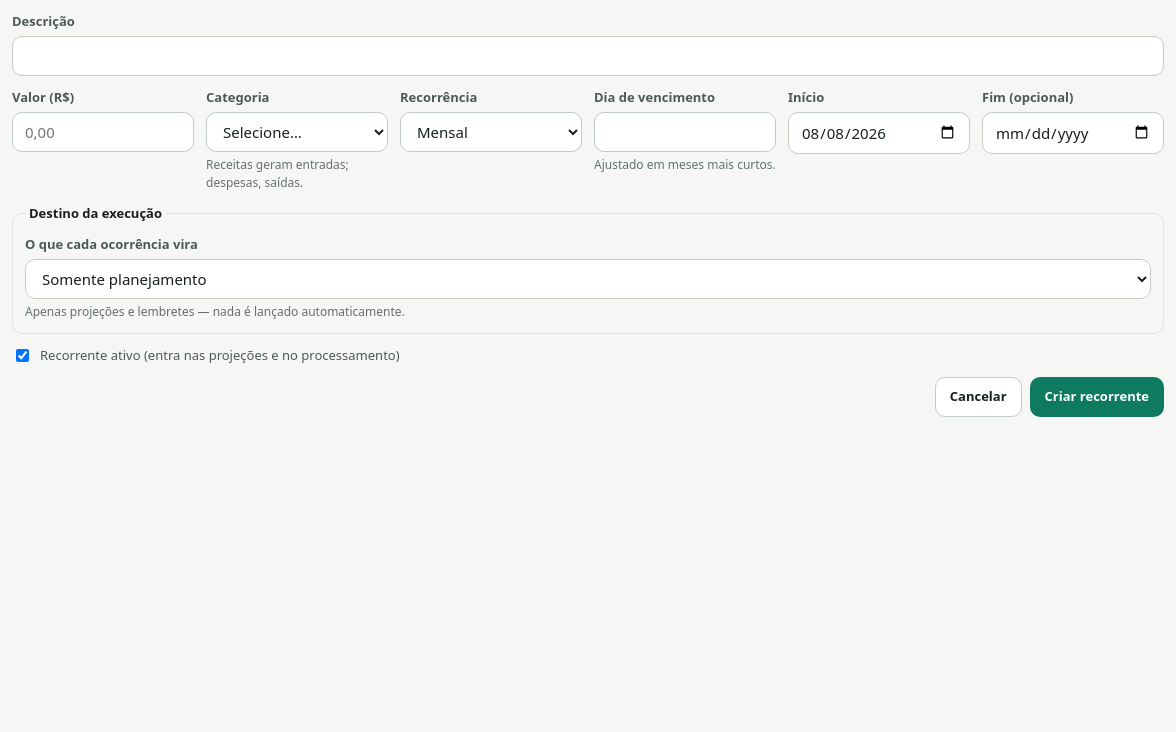
Test case: CommitmentForm › blocks submitting an account target without an account
Check: the dropdown labelled "O que cada ocorrência vira" is shown, box [25,258,1151,298]
Step 1. Type "Internet" into the field labelled "Descrição" → coordinates (588, 56), box [12,36,1164,76]
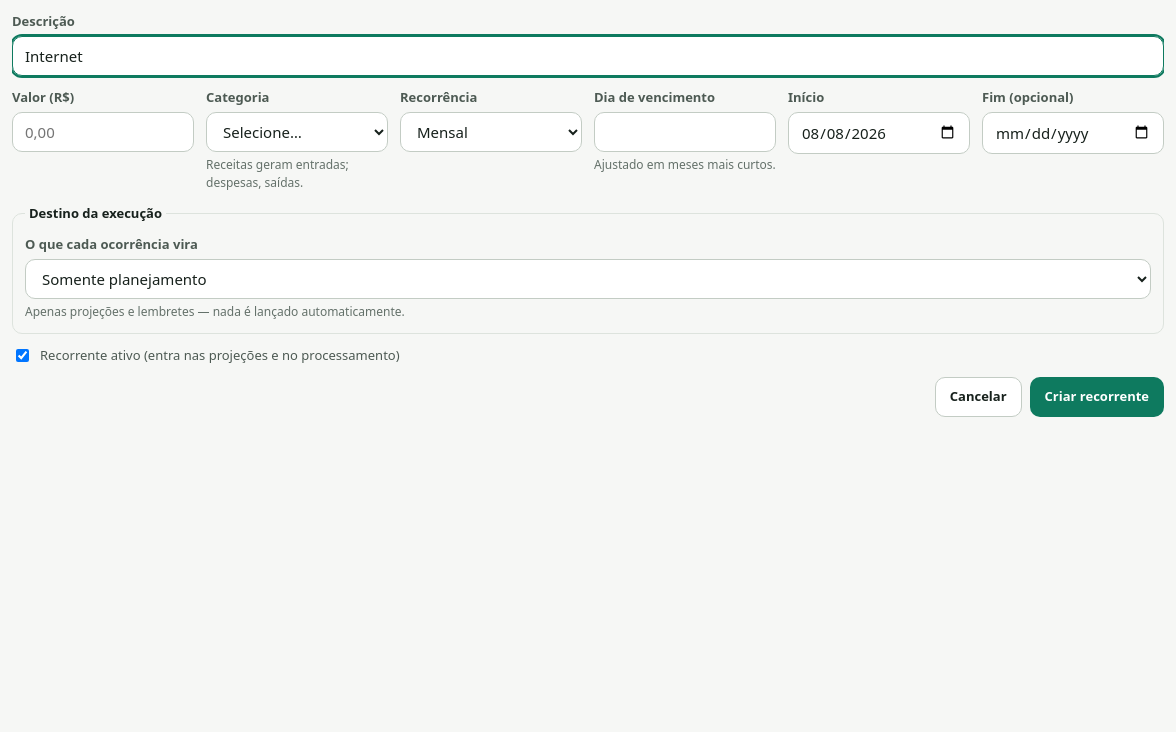
Step 2. Type "99,90" into the field labelled "Valor (R$)" → coordinates (103, 132), box [12,112,194,152]
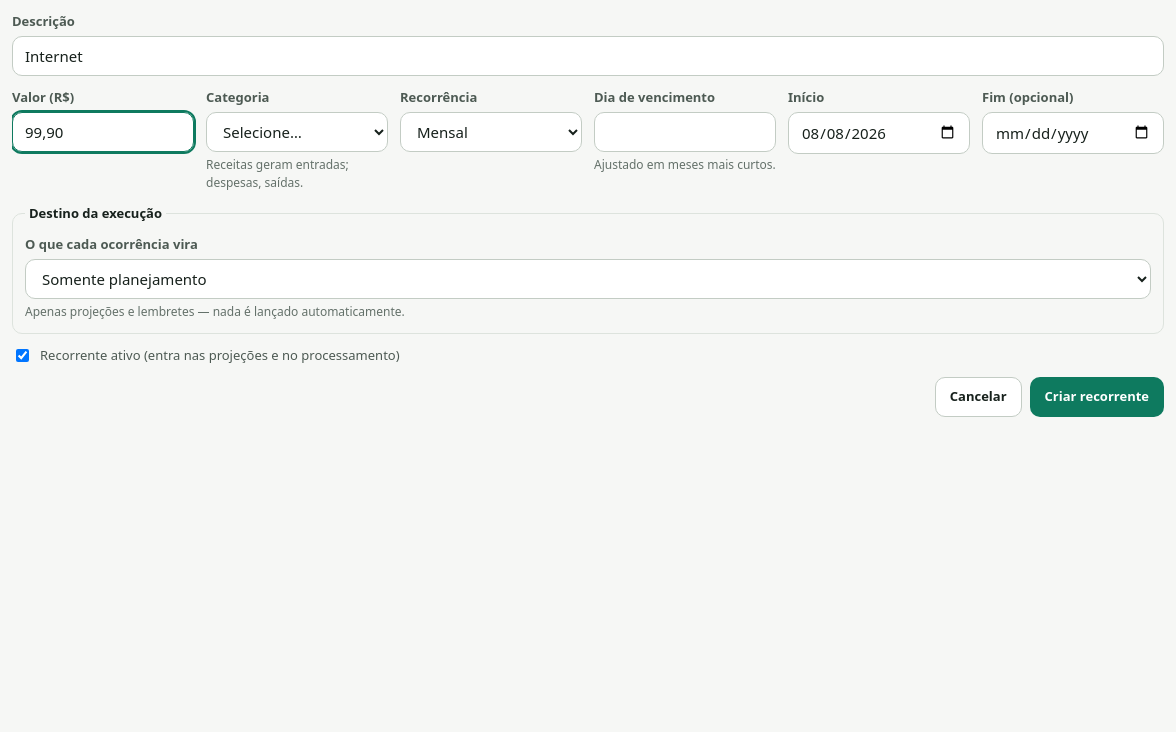
Step 3. Select "Assinaturas (despesa)" in the dropdown labelled "Categoria" → coordinates (297, 132), box [206,112,388,152]
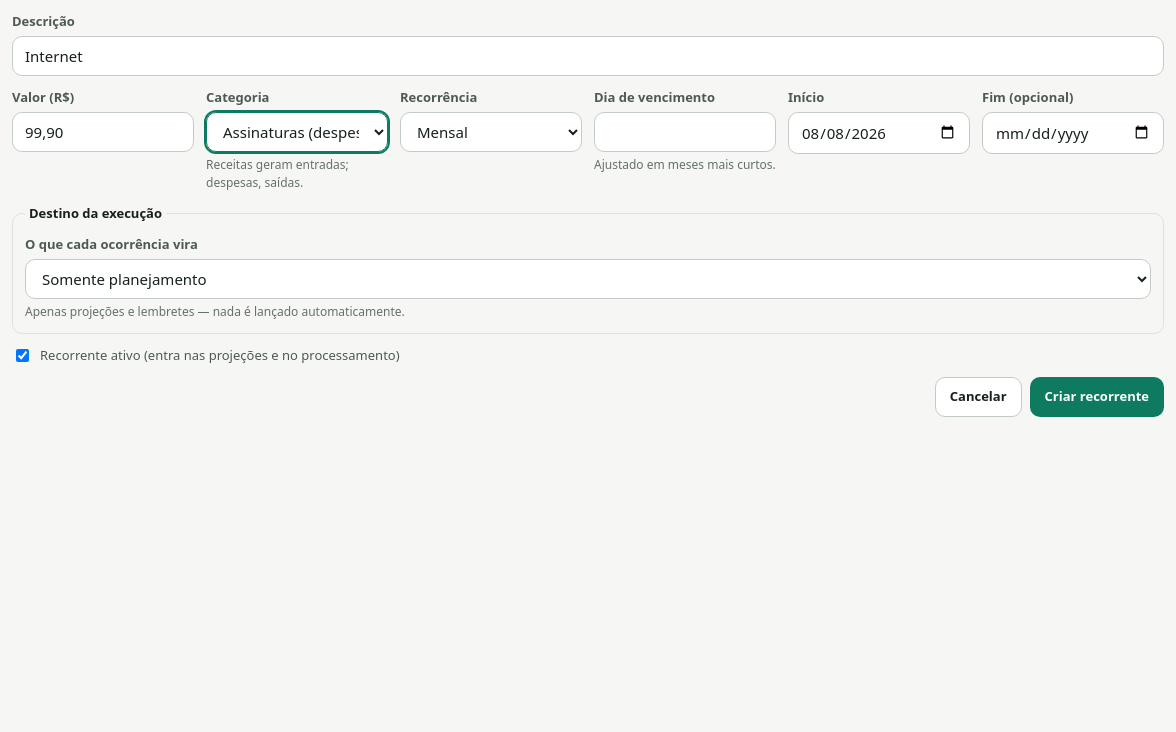
Step 4. Type "10" into the number field labelled "Dia de vencimento" → coordinates (685, 132), box [594,112,776,152]
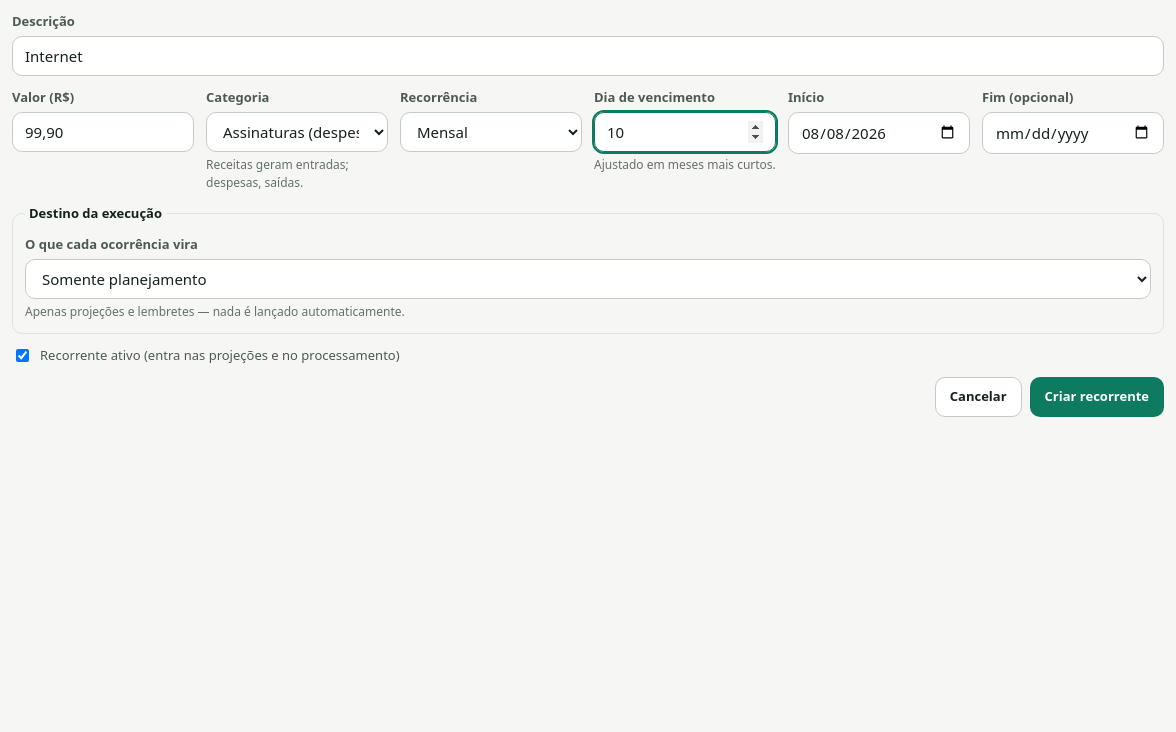
Step 5. Select "Lançamento em conta" in the dropdown labelled "O que cada ocorrência vira" → coordinates (588, 278), box [25,258,1151,298]
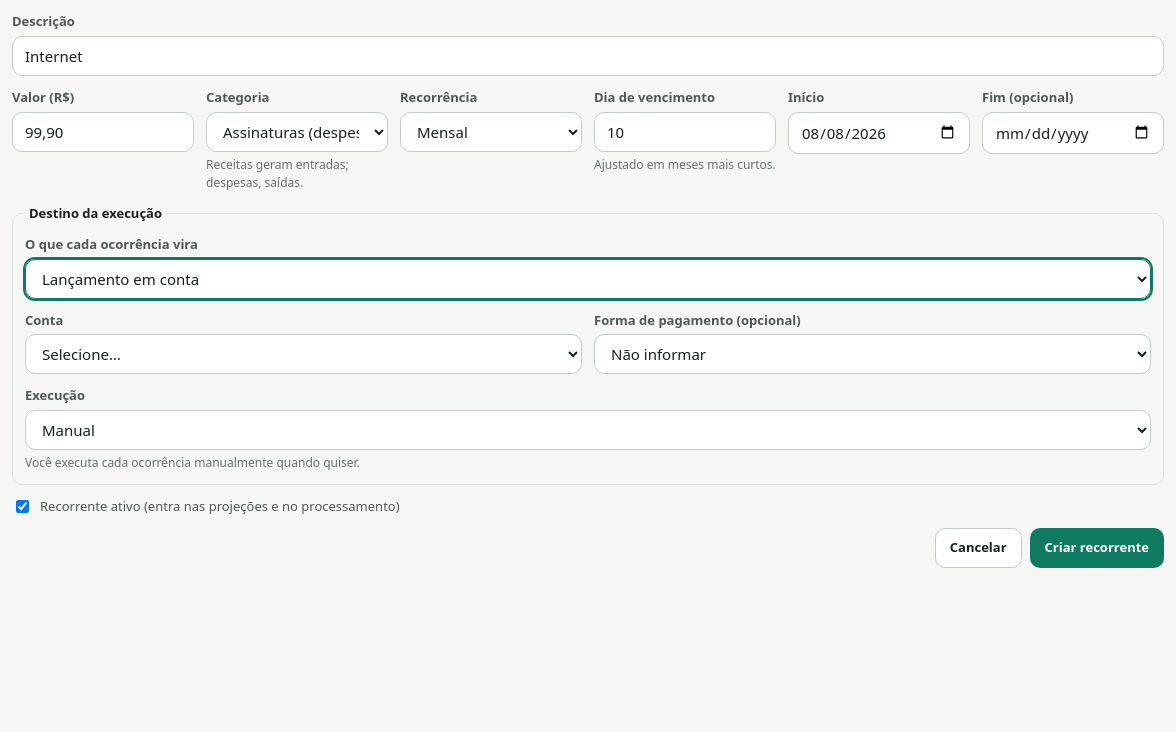
Step 6. Click the button "Criar recorrente" → coordinates (1097, 548), box [1030,528,1164,568]
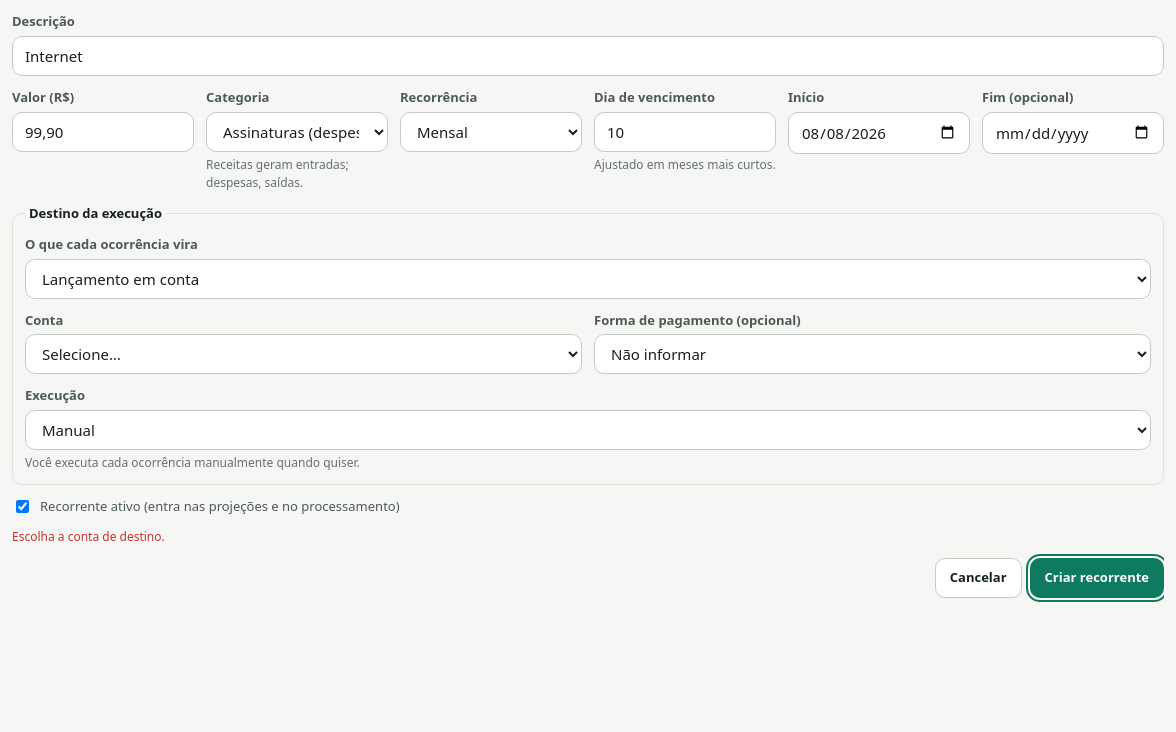
Check: the message reads "Escolha a conta de destino.", box [12,528,165,545]
